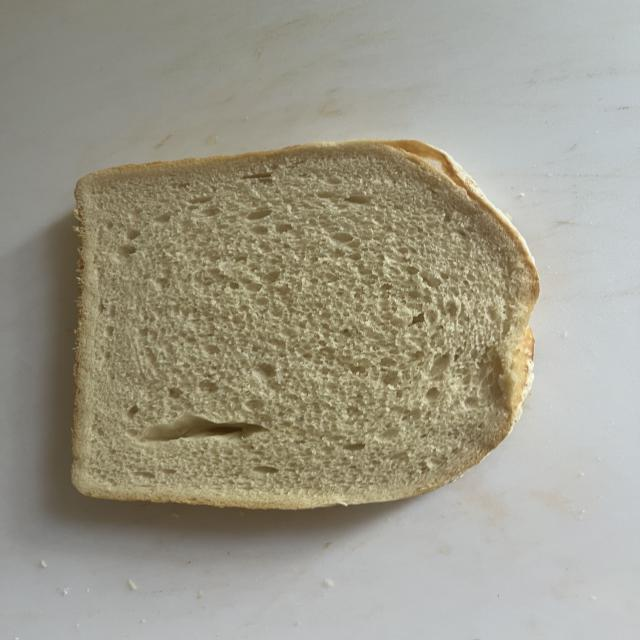sliced_bread: (73, 141, 538, 509)
